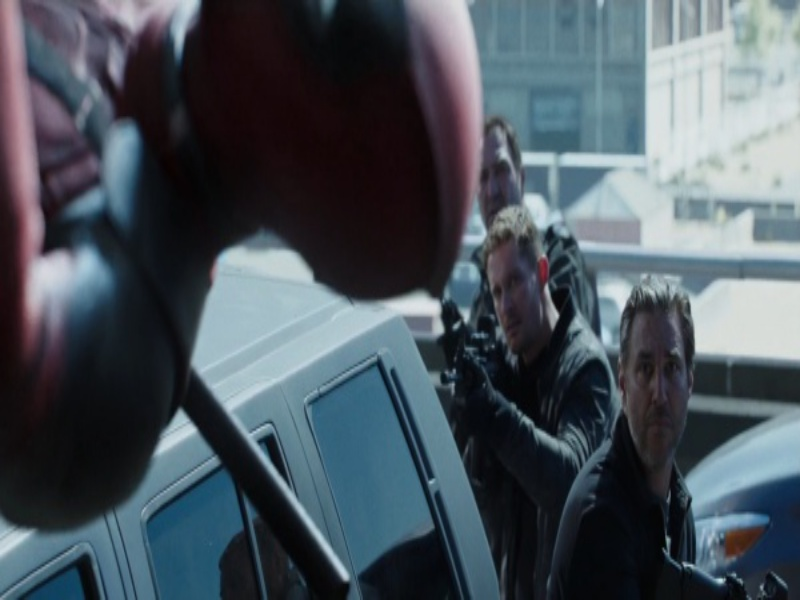person: (5, 1, 484, 530), (448, 209, 585, 550), (545, 282, 692, 595), (435, 122, 585, 312)
weapon: (658, 545, 797, 596), (437, 327, 508, 402)
